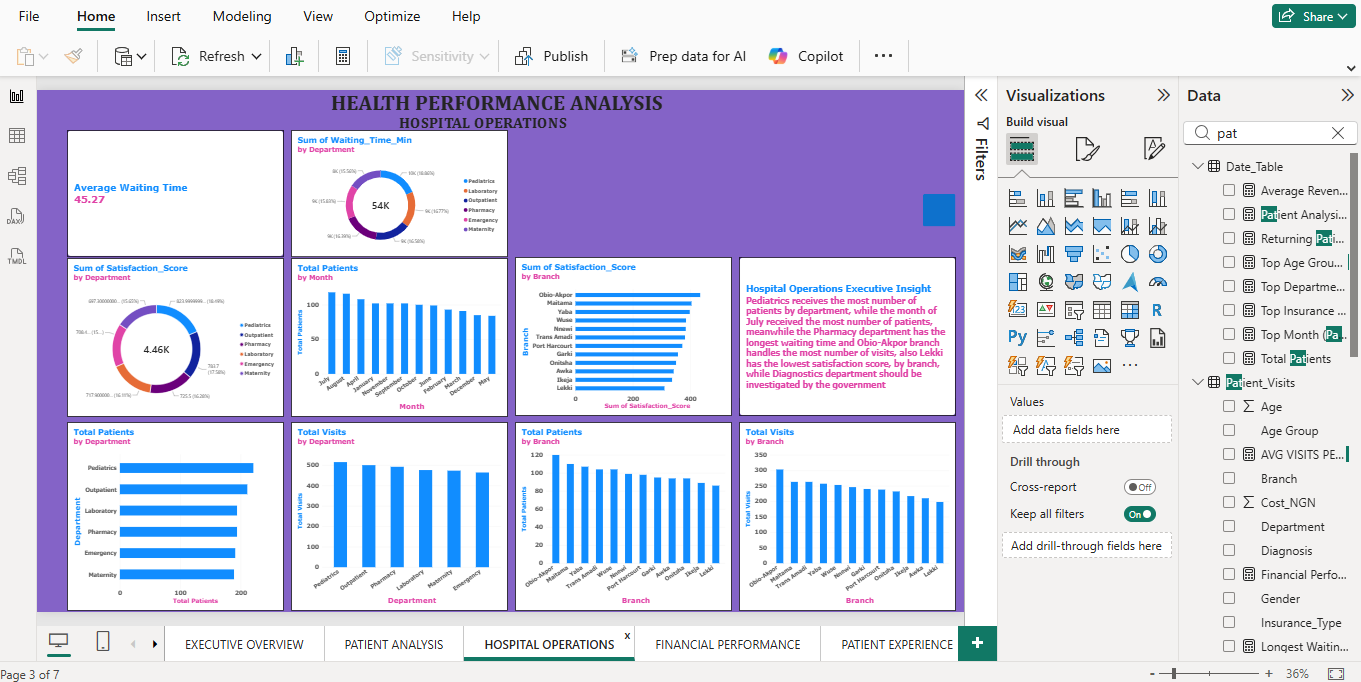

The page's visual inventory and layout, read from the dashboard file:
{"tool":"powerbi","page":{"name":"HOSPITAL OPERATIONS","canvas":[2560,1440],"ordinal":2},"visuals":[{"type":"clusteredColumnChart","fields":{"Category":["Patient_Visits.Department"],"Y":["Date_Table.Total Visits"]},"box":[701.4,916.9,599,521],"z":0},{"type":"textbox","box":[813,0,934,114.2],"z":1000},{"type":"textbox","box":[1000.1,64.1,559.9,50.6],"z":2000},{"type":"cardVisual","fields":{"Data":["Date_Table.Average Waiting Time"]},"box":[82.8,110.5,599,350.7],"z":3000},{"type":"donutChart","fields":{"Category":["Patient_Visits.Department"],"Y":["Sum(Patient_Visits.Waiting_Time_Min)"]},"box":[701.4,110.5,599.3,350.7],"z":4000},{"type":"donutChart","fields":{"Category":["Patient_Visits.Department"],"Y":["Sum(Patient_Visits.Satisfaction_Score)"]},"box":[82.8,463.9,599.3,439.1],"z":5000},{"type":"clusteredColumnChart","fields":{"Category":["Patient_Visits.Branch"],"Y":["Date_Table.Total Patients"]},"box":[1320,916.9,599,521.9],"z":6000},{"type":"actionButton","box":[2447,286.6,90,90],"z":7000},{"type":"clusteredColumnChart","fields":{"Category":["Date_Table.Month"],"Y":["Date_Table.Total Patients"]},"box":[701.4,463.9,599.3,439.1],"z":8000},{"type":"cardVisual","fields":{"Data":["State_Targets.Hospital Operations Executive Insight"]},"box":[1938.6,461.2,599.3,439],"z":9000},{"type":"clusteredColumnChart","fields":{"Category":["Patient_Visits.Branch"],"Y":["Date_Table.Total Visits"]},"box":[1938.6,916.9,599.3,521.9],"z":10000},{"type":"clusteredBarChart","fields":{"Category":["Patient_Visits.Branch"],"Y":["Sum(Patient_Visits.Satisfaction_Score)"]},"box":[1320,461.2,599.3,439.1],"z":11000},{"type":"clusteredBarChart","fields":{"Category":["Patient_Visits.Department"],"Y":["Date_Table.Total Patients"]},"box":[82.8,916.9,599,521],"z":12000}]}

Visuals, with their boxes on the page's 2560x1440 design canvas (x1, y1, x2, y2). These are canvas units, not pixel positions in the 1361x682 screenshot, which may show the page scaled, cropped or inside an application window:
clusteredColumnChart - Patient_Visits.Department x Date_Table.Total Visits: bbox(701, 917, 1300, 1438)
textbox: bbox(813, 0, 1747, 114)
textbox: bbox(1000, 64, 1560, 115)
cardVisual - Date_Table.Average Waiting Time: bbox(83, 110, 682, 461)
donutChart - Patient_Visits.Department x Sum(Patient_Visits.Waiting_Time_Min): bbox(701, 110, 1301, 461)
donutChart - Patient_Visits.Department x Sum(Patient_Visits.Satisfaction_Score): bbox(83, 464, 682, 903)
clusteredColumnChart - Patient_Visits.Branch x Date_Table.Total Patients: bbox(1320, 917, 1919, 1439)
actionButton: bbox(2447, 287, 2537, 377)
clusteredColumnChart - Date_Table.Month x Date_Table.Total Patients: bbox(701, 464, 1301, 903)
cardVisual - State_Targets.Hospital Operations Executive Insight: bbox(1939, 461, 2538, 900)
clusteredColumnChart - Patient_Visits.Branch x Date_Table.Total Visits: bbox(1939, 917, 2538, 1439)
clusteredBarChart - Patient_Visits.Branch x Sum(Patient_Visits.Satisfaction_Score): bbox(1320, 461, 1919, 900)
clusteredBarChart - Patient_Visits.Department x Date_Table.Total Patients: bbox(83, 917, 682, 1438)
